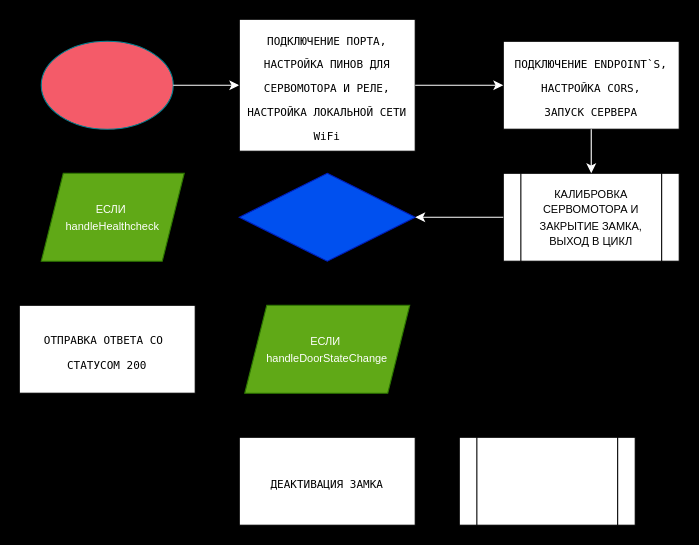
Some shapes in this 699 by 545 pixel diagram are drawn without their labels. Here are the shapes that lost their labels. From the top down, the centre of each, then its label:
At point 106,84: "НАЧАЛО".
At point 326,216: "ОБРАБОТКА ВХОДЯЩИХ ЗАПРОСОВ".
At point 546,480: "ОТКРЫТИЕ ДВЕРИ, В ЦИКЛЕ FOR ВЫСТАВЛЯЕТСЯ ЗНАЧЕНИЕ ГРАДУСОВ СЕРВОМОТОРА".
